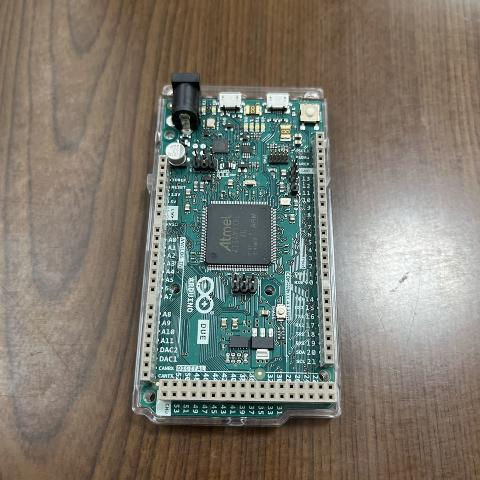Arduino-Due: (124, 58, 352, 442)
